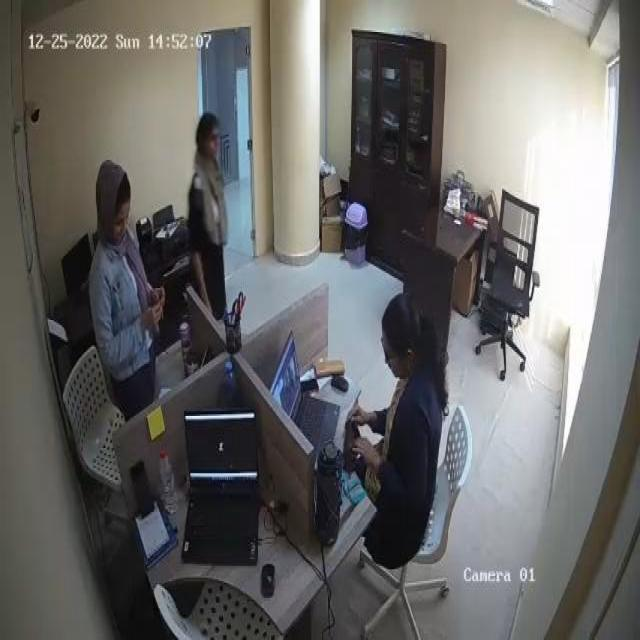bare_hand: (129, 301, 167, 340), (345, 440, 387, 473), (347, 399, 382, 435), (141, 290, 174, 315)
